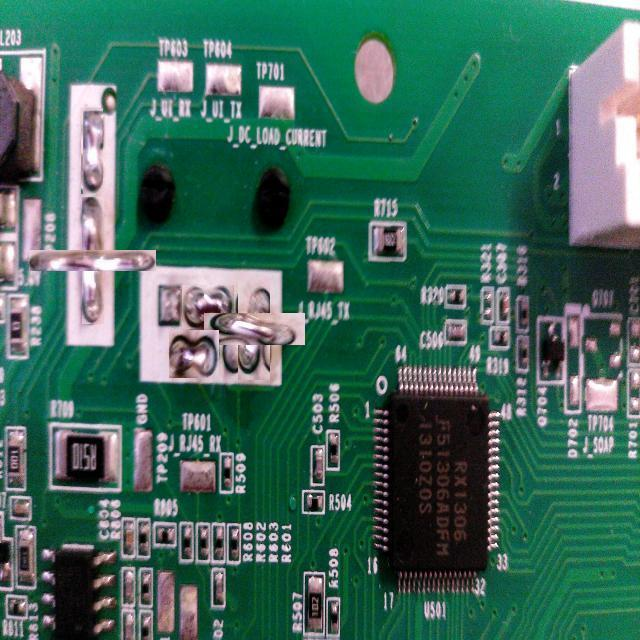Short_circuit: (56, 223, 130, 298), (220, 296, 288, 362), (169, 330, 219, 378), (182, 285, 234, 329), (82, 108, 104, 194)
